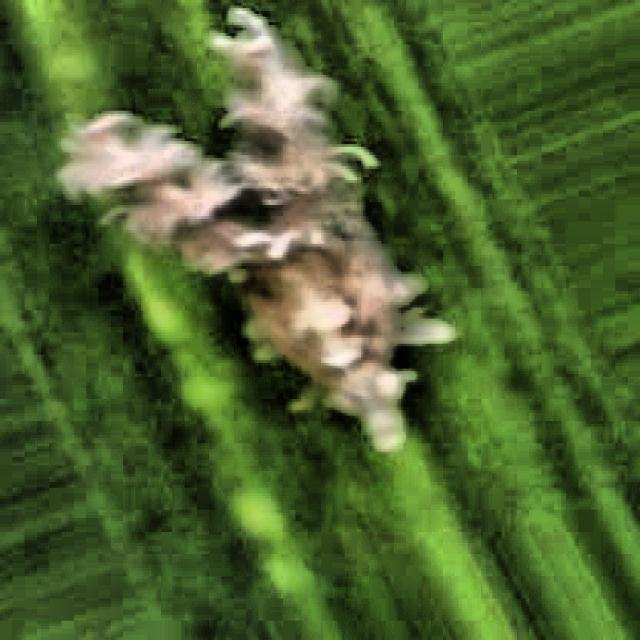Pyrilla-perpusilla: (44, 22, 516, 519)
